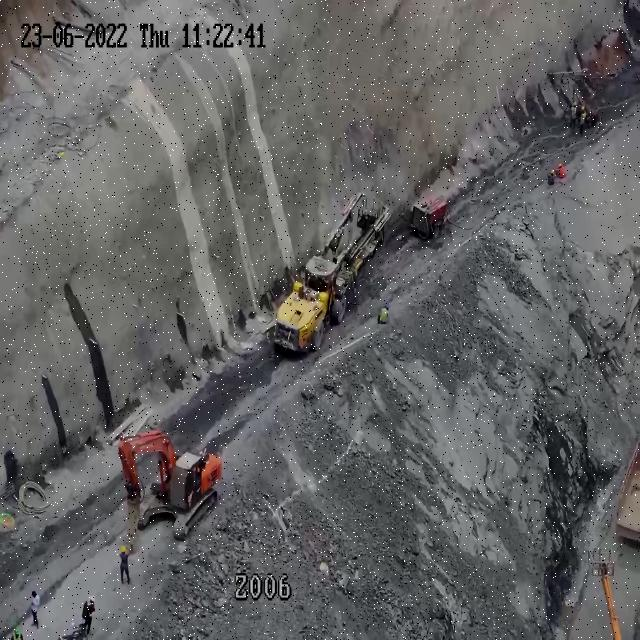Boots: (121, 579, 124, 585), (37, 622, 39, 630), (31, 623, 36, 626), (128, 579, 130, 585), (87, 631, 89, 635)
Helmet: (120, 546, 127, 552), (90, 595, 95, 603)
